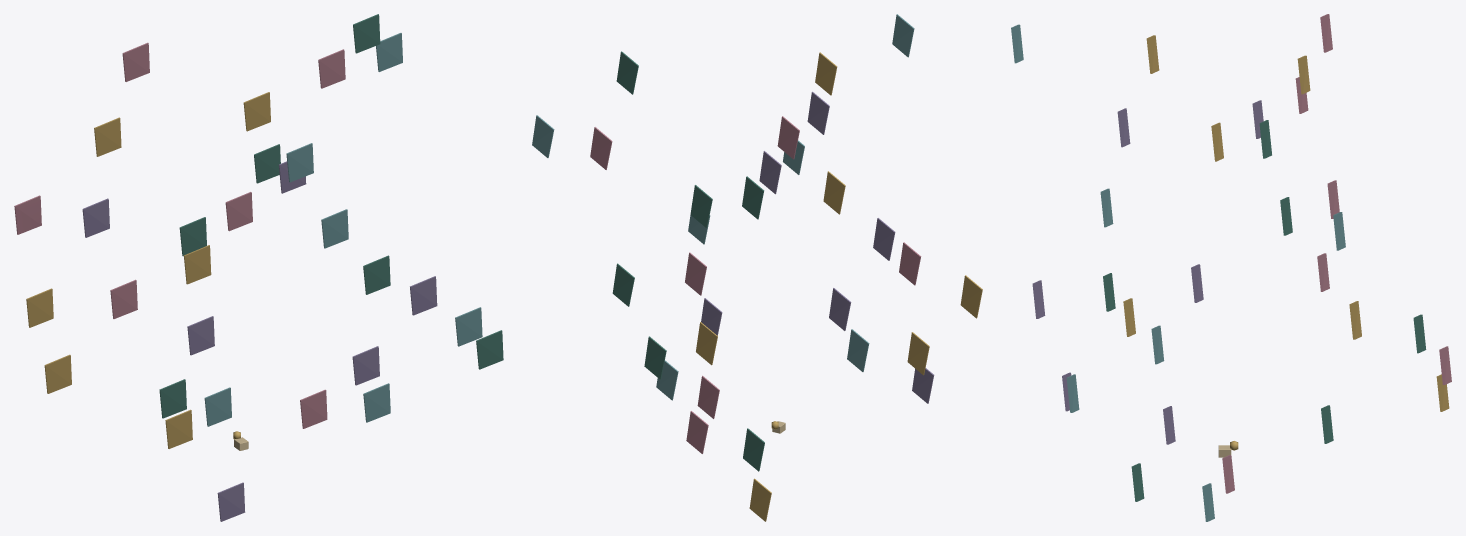
The model's file is confetti_burst_low.glb.
3 views of the same model, side by side, from view 1: azimuth 30°, elevation 25°; view 2: azimuth 150°, elevation 25°; view 3: azimuth 270°, elevation 25° (orthographic). The views are drawn at different scales.
Bounding box in the file's own units: 0.5962 × 0.5 × 0.4838.
